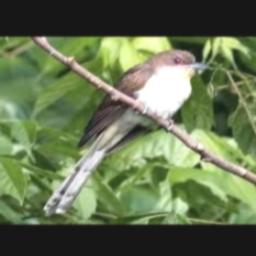Cuckoo: (43, 50, 210, 216)
